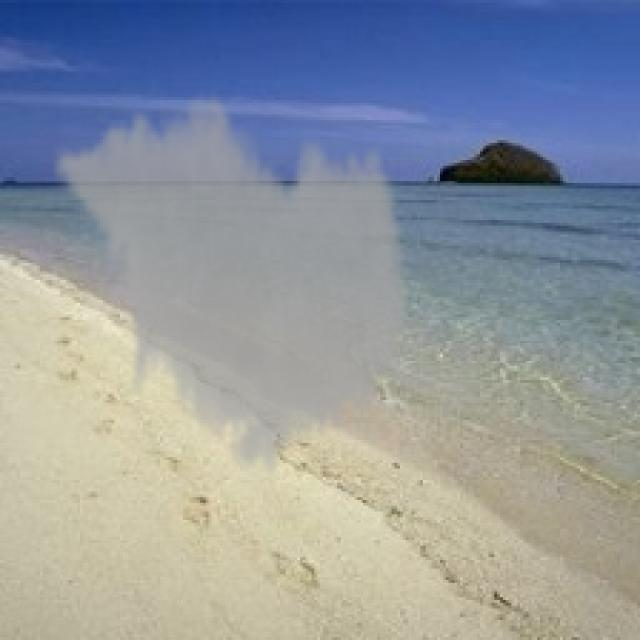smoke: (52, 83, 414, 483)
